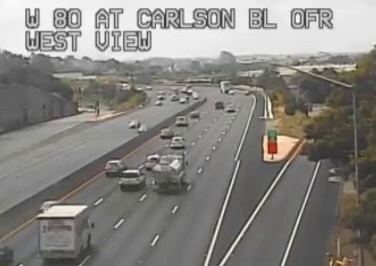car: (120, 170, 145, 188), (105, 160, 125, 174), (169, 137, 184, 148)
small-truck: (38, 205, 90, 260)
tank-truck: (154, 155, 184, 192)
